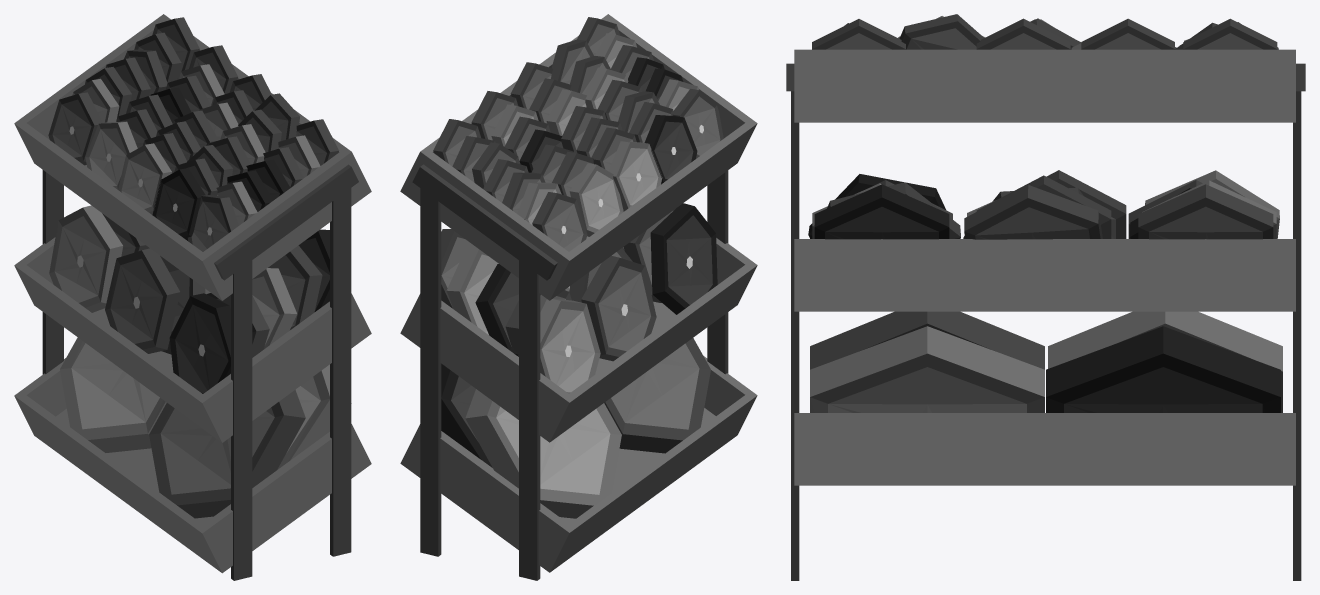
File: food_stack_w.FBX
3 renders of one model, left to right at view 1: azimuth 30°, elevation 25°; view 2: azimuth 150°, elevation 25°; view 3: azimuth 270°, elevation 25°, orthographic. The views are drawn at different scales.
Visible parts, largest first — view 1: food_stack_w; view 2: food_stack_w; view 3: food_stack_w.
Part boxes in pixels (box(x1,y1,x2,y2)): food_stack_w: box(14, 14, 371, 580); food_stack_w: box(400, 14, 757, 580); food_stack_w: box(786, 14, 1305, 580).
Size of the model in its own units: 41.9 by 95.88 by 81.29.
